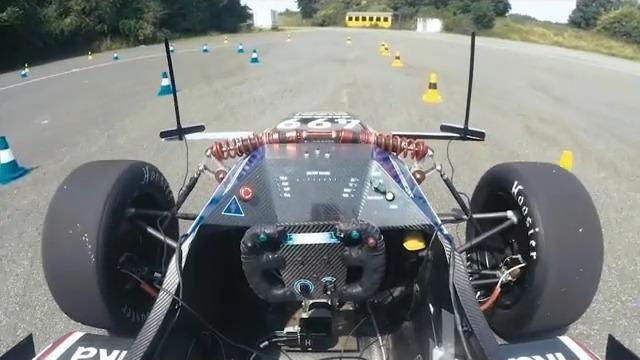blue_cone: (0, 126, 33, 188), (145, 61, 187, 102), (227, 38, 268, 70)
yellow_cone: (550, 135, 590, 191), (419, 71, 455, 110), (376, 38, 412, 66)
